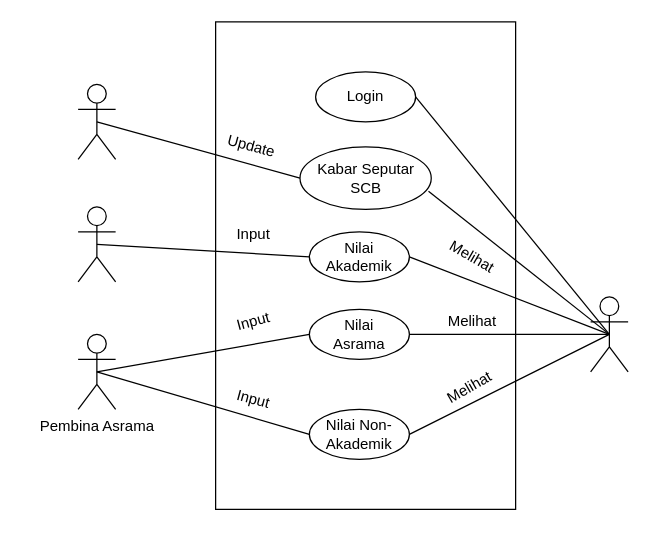
Some shapes in this 666 by 533 pixel diagram are drawn without their labels. The centre of each missing label's shape, as x and y in pixels:
"Guru" belongs at point (96, 244).
"Hubungan Masyarakat" belongs at point (96, 121).
"Orang Tua" belongs at point (608, 334).
